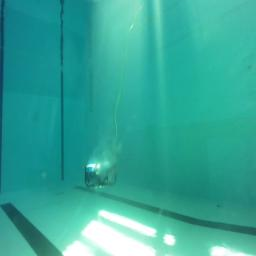front: (82, 162, 116, 188)
